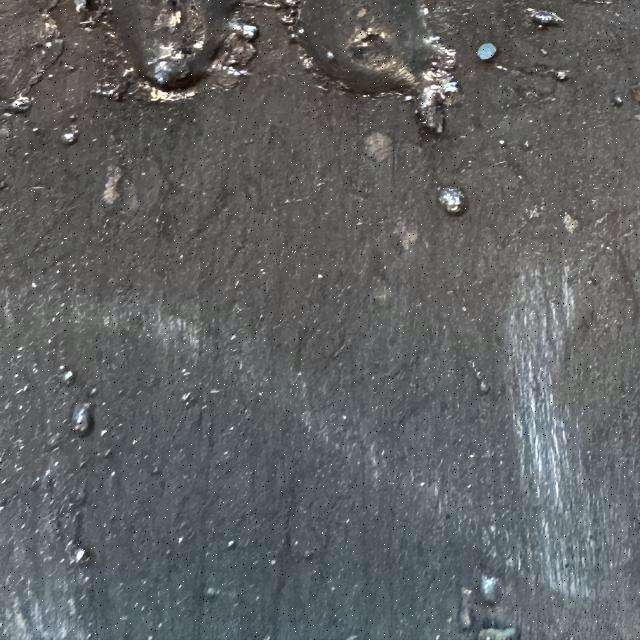Excess Reinforcement: (410, 35, 457, 134), (210, 23, 258, 89), (92, 68, 135, 100), (280, 1, 302, 25)
Spatters: (438, 188, 468, 216), (72, 402, 95, 436), (528, 9, 563, 28), (482, 575, 502, 604), (7, 95, 33, 114), (460, 588, 472, 629), (478, 628, 517, 640), (477, 42, 497, 60), (60, 125, 78, 145), (555, 70, 570, 81), (612, 96, 623, 108), (62, 370, 73, 381)
